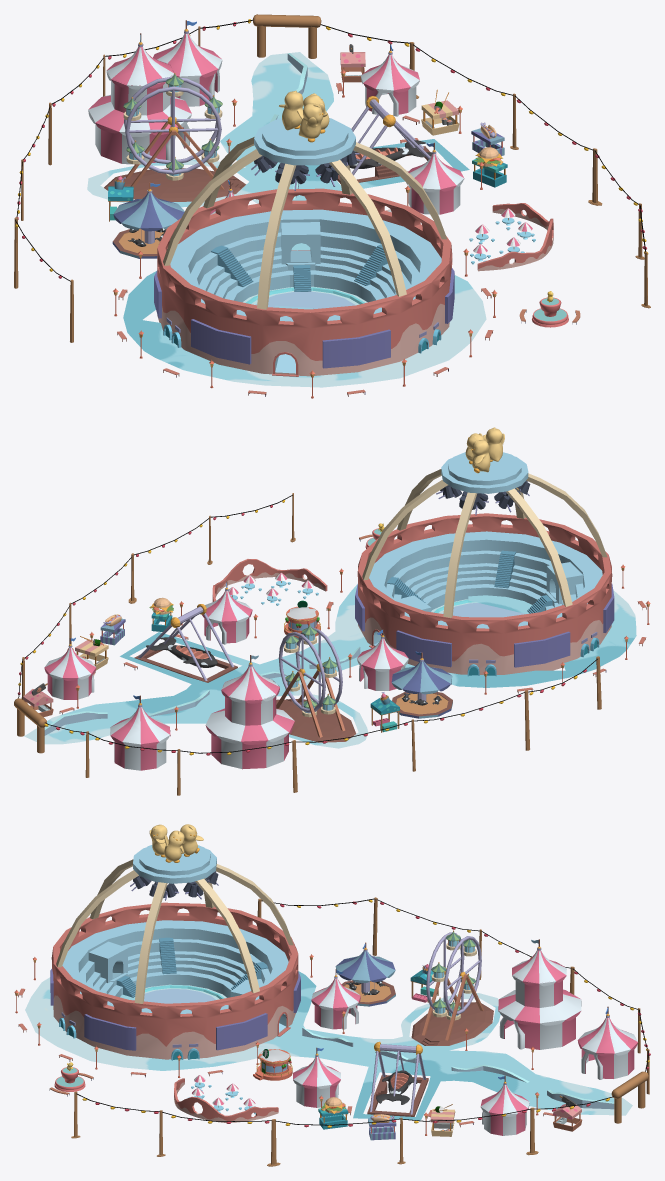
Rendered from Neighborhood_JamboreeSquare_03.fbx.
3 views of the same model, one above another, from view 1: azimuth 30°, elevation 25°; view 2: azimuth 150°, elevation 25°; view 3: azimuth 270°, elevation 25° (orthographic). The views are drawn at different scales.
Visible parts, largest first — view 1: pasted__Arena1_Ande, pasted__Berg1, pasted__pasted__FerrisWheelTent_TENT04, pasted__pasted__TENT02, pasted__pasted__PM3D_Sphere3D_3, pasted__pasted__TENT01, pasted__pasted__TENT09, pasted__pasted__TENT05, pasted__pasted__pCylinder5, pasted__pasted__pasted__Object_Lights1, pasted__pasted__pasted__Object_Lights, pasted__Pudgys_Ande (+9 smaller); view 2: pasted__Arena1_Ande, pasted__Berg1, pasted__pasted__TENT02, pasted__pasted__FerrisWheelTent_TENT04, pasted__pasted__TENT01, pasted__pasted__PM3D_Sphere3D_3, pasted__pasted__pCylinder5, pasted__pasted__pasted__Object_Lights, pasted__pasted__TENT05, pasted__pasted__TENT08, pasted__pasted__TENT09, pasted__pasted__Walls_Ande (+11 smaller); view 3: pasted__Arena1_Ande, pasted__Berg1, pasted__pasted__TENT02, pasted__pasted__FerrisWheelTent_TENT04, pasted__pasted__TENT01, pasted__pasted__pCylinder5, pasted__pasted__PM3D_Sphere3D_3, pasted__pasted__pasted__Object_Lights1, pasted__pasted__TENT05, pasted__pasted__TENT08, pasted__pasted__TENT09, pasted__pasted__pasted__Object_Lights (+12 smaller).
Part boxes in pixels (bbox=[...]): pasted__Arena1_Ande: bbox=[154, 118, 454, 376]; pasted__Berg1: bbox=[87, 52, 486, 387]; pasted__pasted__FerrisWheelTent_TENT04: bbox=[104, 73, 245, 201]; pasted__pasted__TENT02: bbox=[88, 33, 191, 164]; pasted__pasted__PM3D_Sphere3D_3: bbox=[112, 182, 184, 258]; pasted__pasted__TENT01: bbox=[153, 20, 222, 106]; pasted__pasted__TENT09: bbox=[406, 142, 464, 214]; pasted__pasted__TENT05: bbox=[361, 43, 419, 116]; pasted__pasted__pCylinder5: bbox=[337, 96, 432, 183]; pasted__pasted__pasted__Object_Lights1: bbox=[321, 24, 650, 308]; pasted__pasted__pasted__Object_Lights: bbox=[14, 19, 252, 342]; pasted__Pudgys_Ande: bbox=[279, 90, 329, 142]; pasted__Arena1_Ande: bbox=[355, 452, 614, 674]; pasted__Berg1: bbox=[24, 584, 636, 748]; pasted__pasted__TENT02: bbox=[205, 655, 294, 769]; pasted__pasted__FerrisWheelTent_TENT04: bbox=[276, 624, 356, 742]; pasted__pasted__TENT01: bbox=[110, 695, 170, 770]; pasted__pasted__PM3D_Sphere3D_3: bbox=[391, 651, 452, 718]; pasted__pasted__pCylinder5: bbox=[134, 604, 237, 682]; pasted__pasted__pasted__Object_Lights: bbox=[44, 656, 601, 795]; pasted__pasted__TENT05: bbox=[44, 637, 96, 699]; pasted__pasted__TENT08: bbox=[357, 629, 408, 690]; pasted__pasted__TENT09: bbox=[202, 581, 252, 644]; pasted__pasted__Walls_Ande: bbox=[212, 559, 327, 601]; pasted__Arena1_Ande: bbox=[50, 845, 300, 1059]; pasted__Berg1: bbox=[25, 971, 632, 1120]; pasted__pasted__TENT02: bbox=[498, 939, 581, 1049]; pasted__pasted__FerrisWheelTent_TENT04: bbox=[411, 930, 493, 1045]; pasted__pasted__TENT01: bbox=[577, 1006, 637, 1079]; pasted__pasted__pCylinder5: bbox=[367, 1041, 428, 1116]; pasted__pasted__PM3D_Sphere3D_3: bbox=[335, 942, 395, 1006]; pasted__pasted__pasted__Object_Lights1: bbox=[71, 1091, 613, 1166]; pasted__pasted__TENT05: bbox=[480, 1075, 529, 1135]; pasted__pasted__TENT08: bbox=[311, 969, 360, 1029]; pasted__pasted__TENT09: bbox=[293, 1047, 340, 1107]; pasted__pasted__pasted__Object_Lights: bbox=[257, 897, 650, 1094].
Size of the model in its own units: 3843 by 1614 by 4707.
